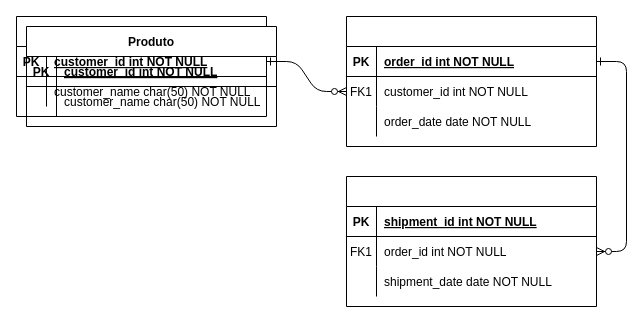
The diagram is 643 pixels wide and 323 high, and some of its shapes have lost their labels. The shapes that lost their labels are listed below. From the top down, each one's box as (x1, y1, x2, y2) in pixels, then its label:
(346, 16, 596, 146): Tipos Calçados
(346, 176, 596, 306): Cores
